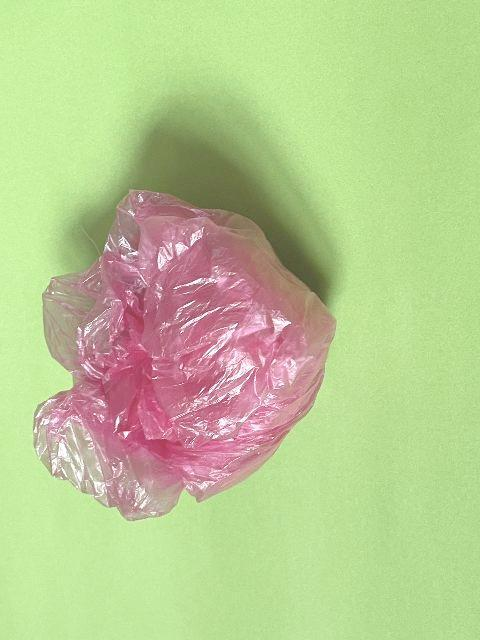plasticbag: (32, 186, 338, 524)
